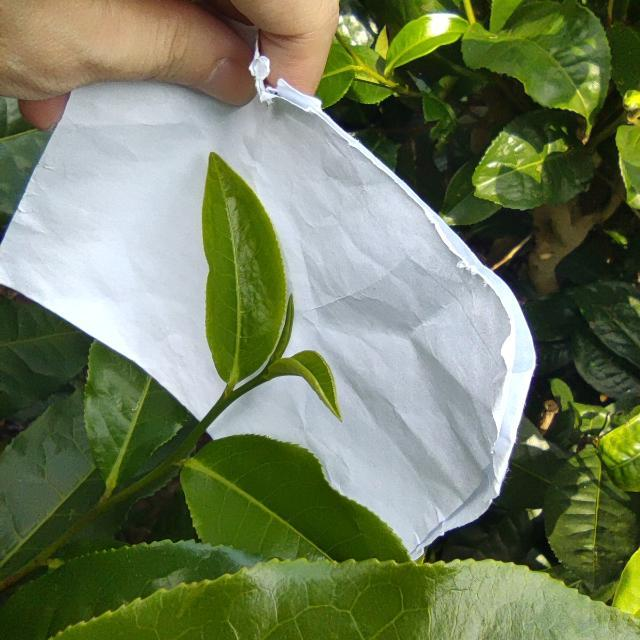Stem: (204, 396, 232, 423)
